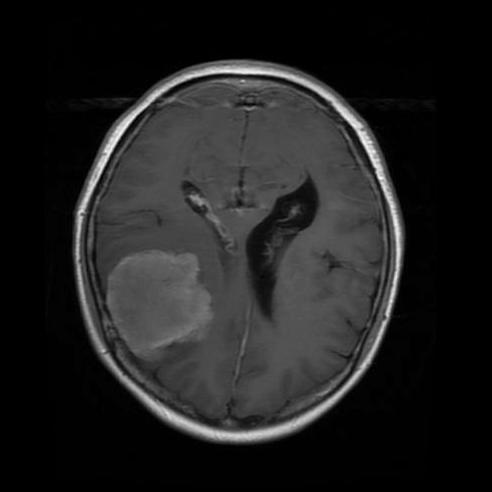Tumour-Pituitary: (98, 240, 220, 372)
